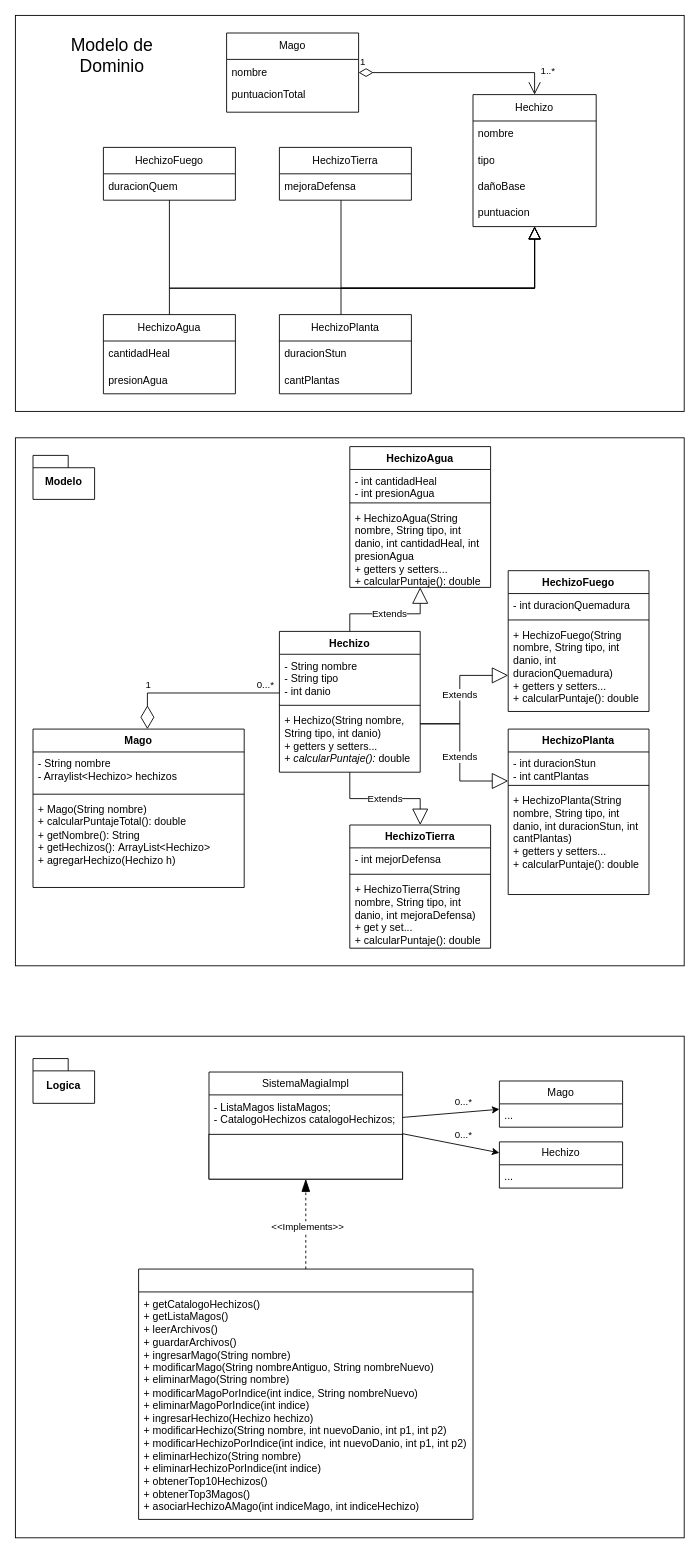
This 700x1553 diagram has some shape labels left out. The box of each missing label's shape, as (x1, y1, x2, y2) in pixels:
+ SistemaMagiaImpl() - BuscarHechizoGlobal(String nombre): (208, 1133, 403, 1179)
ISistemaMagia: (138, 1268, 473, 1519)
